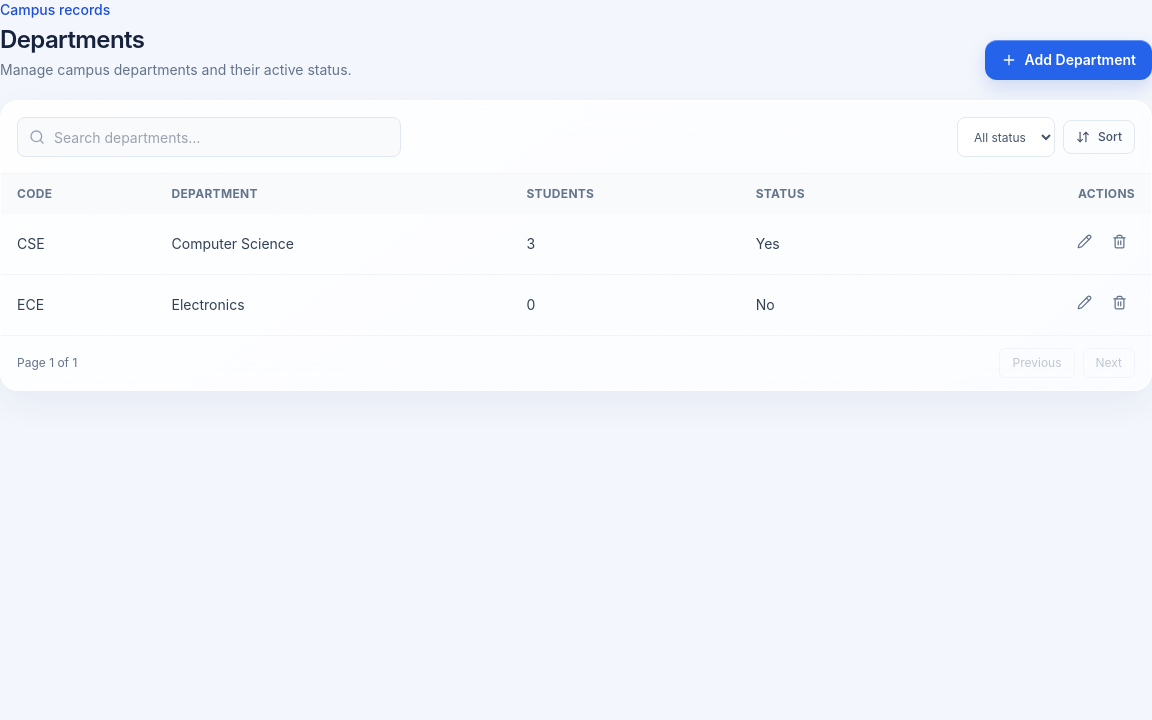
ModuleManager › creates a record and reloads the table
The width and height of the screenshot is (1152, 720).
Click the button "Add Department" at (1068, 60), box [985,40,1151,80]
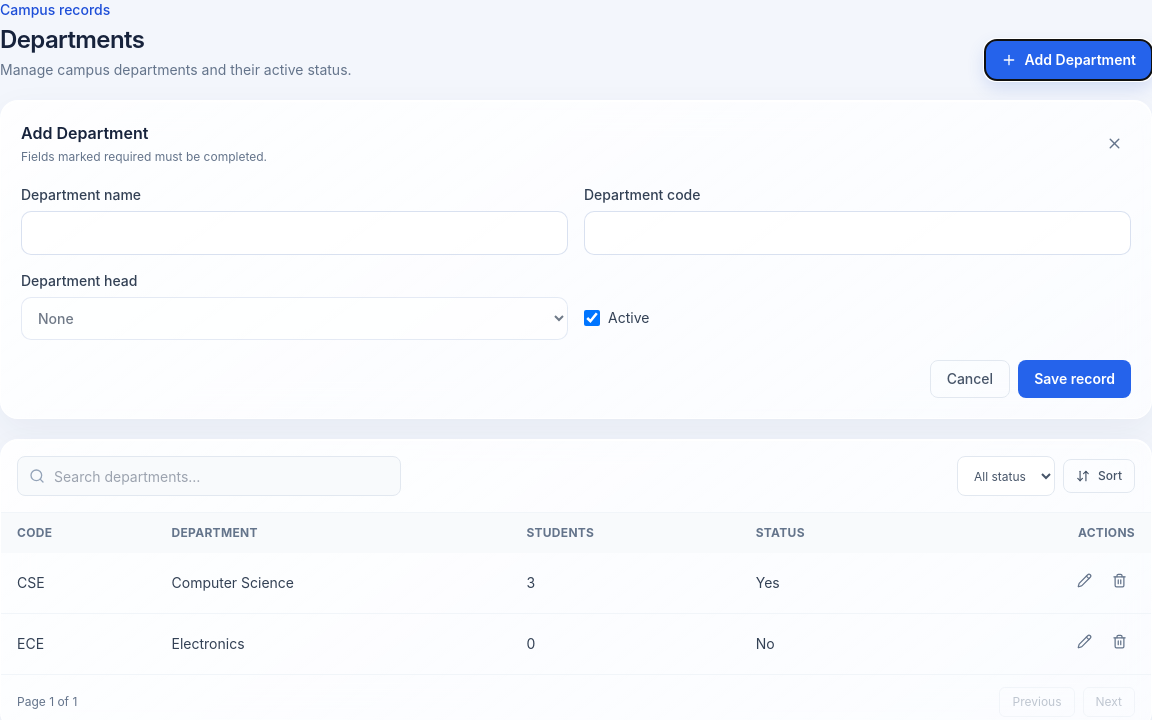
Type "Mechanical" into the field labelled "Department name" at (294, 233), box [21,211,568,255]
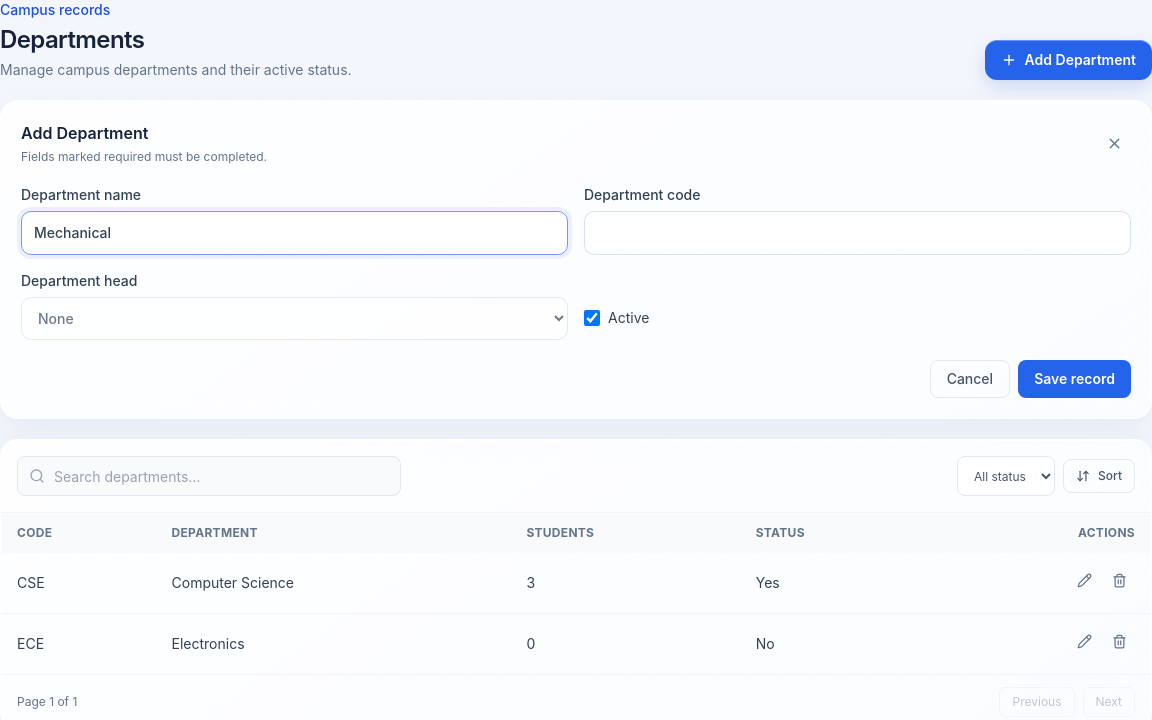
Type "MECH" into the field labelled "Department code" at (858, 233), box [584,211,1131,255]
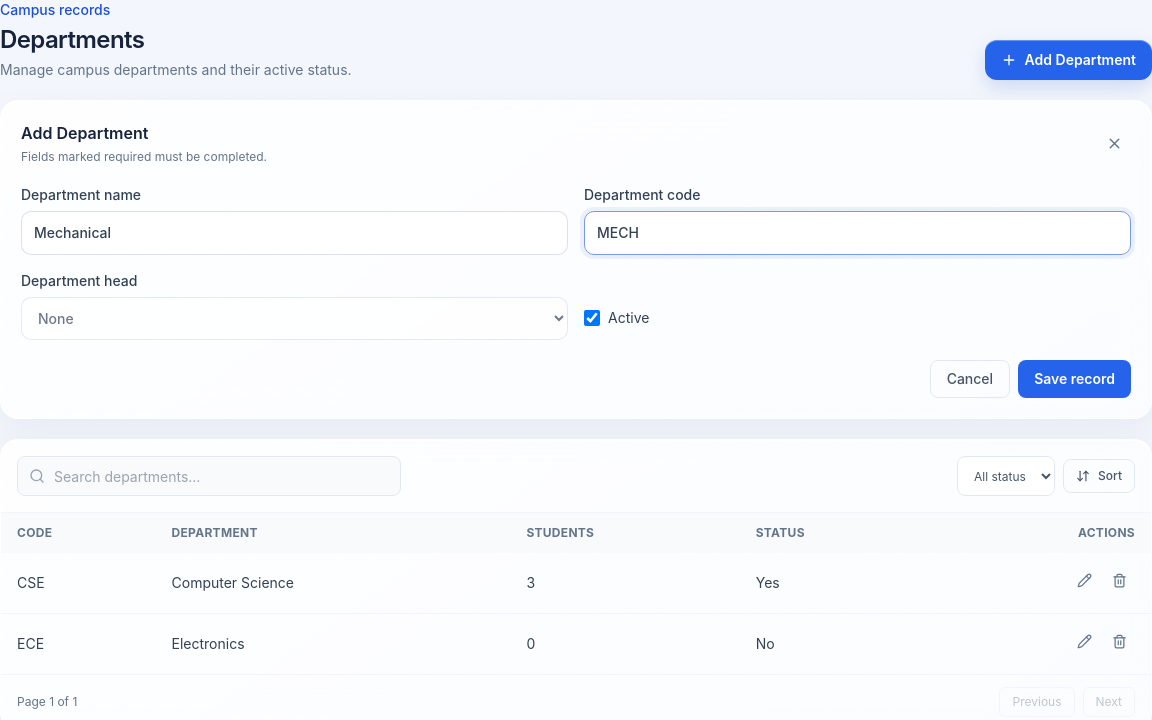
Click the button "Save record" at (1075, 379), box [1018,360,1131,398]
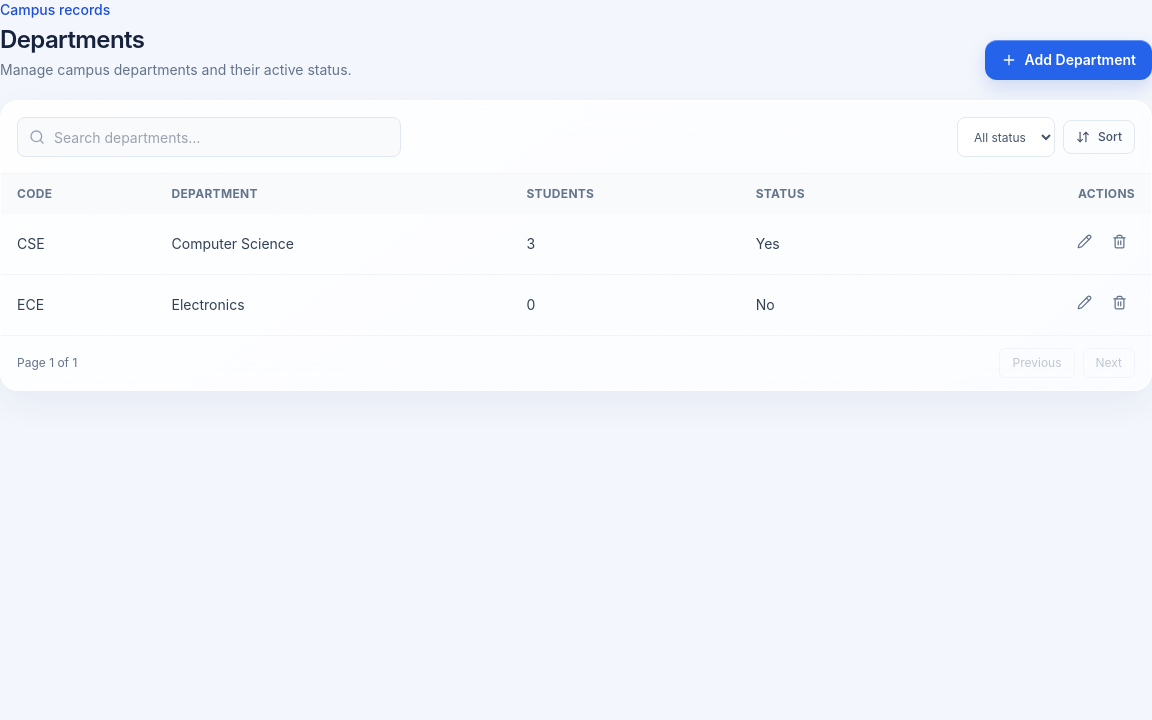
Result: the label labelled "Department name" is gone
